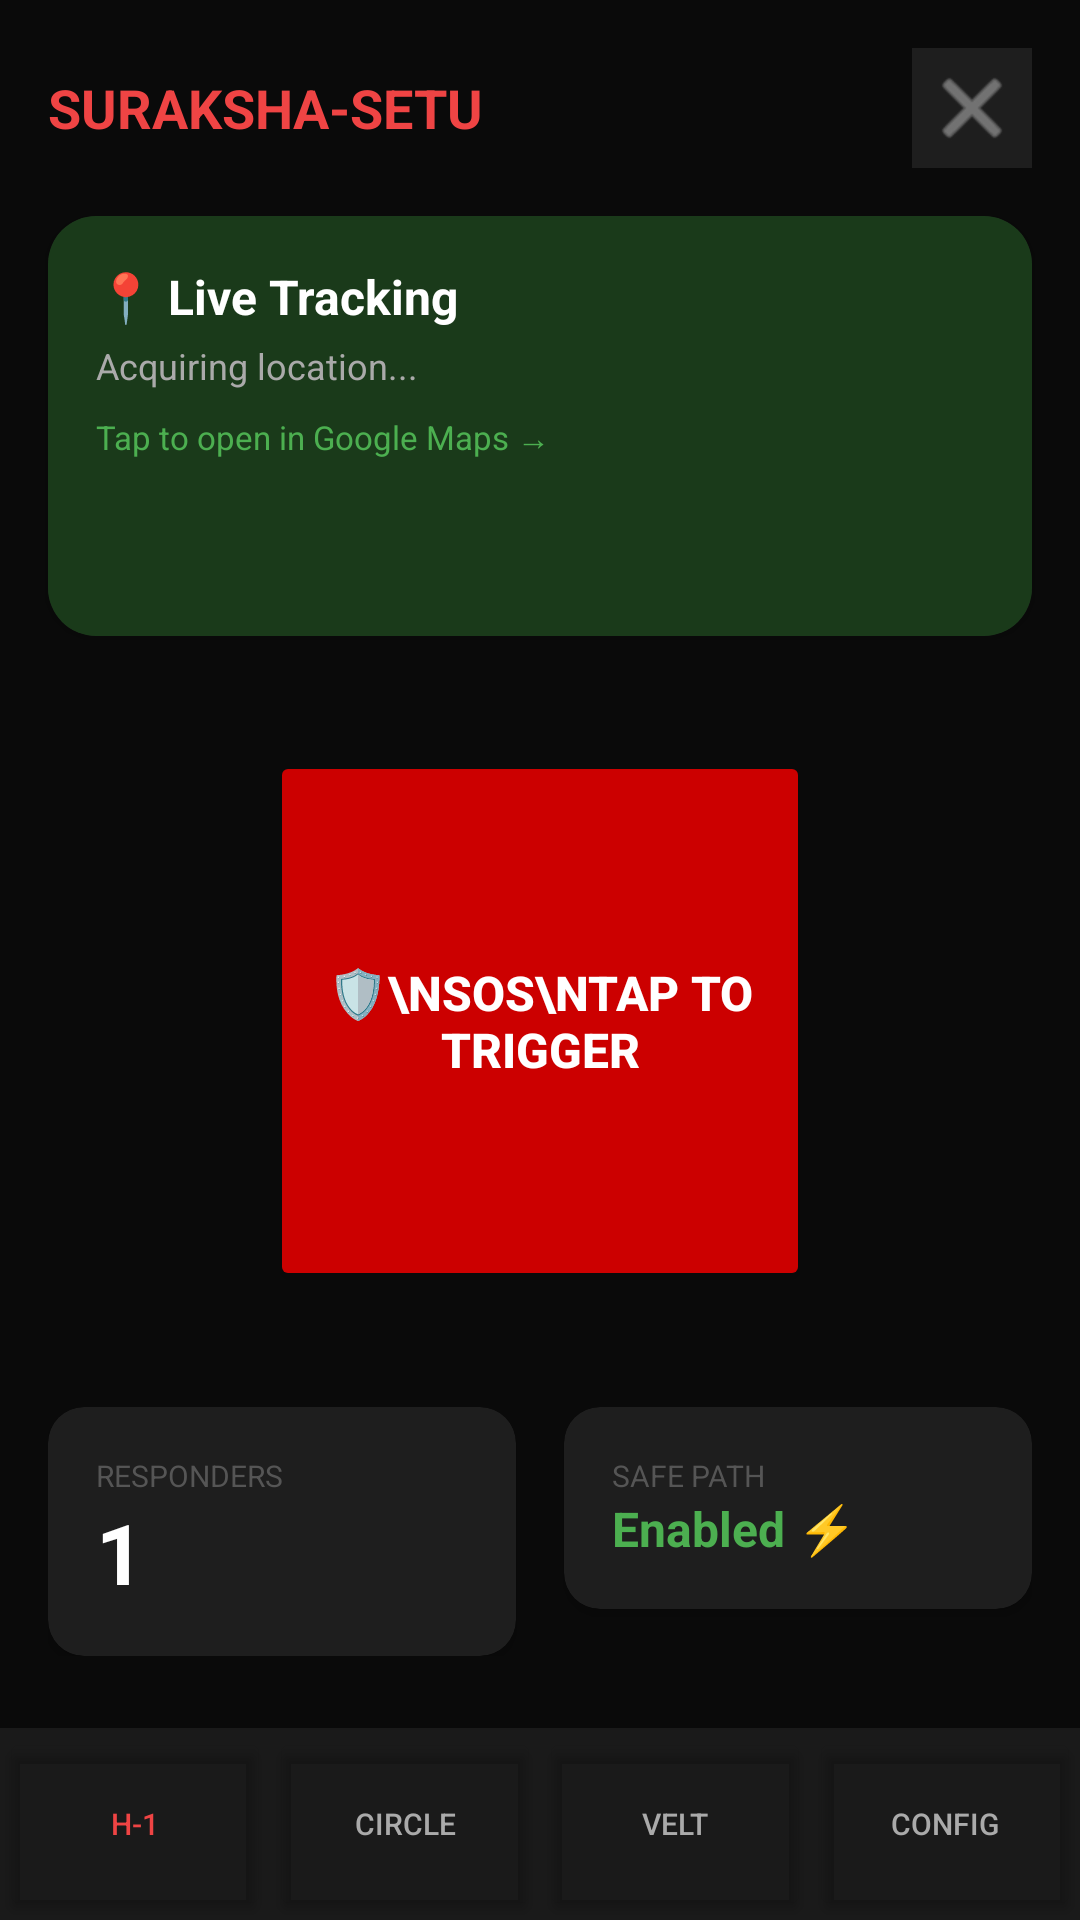

Where to tap for icons on this 1080px×1920px app screen, as [x,y]:
close clear cancel: [972,108]
